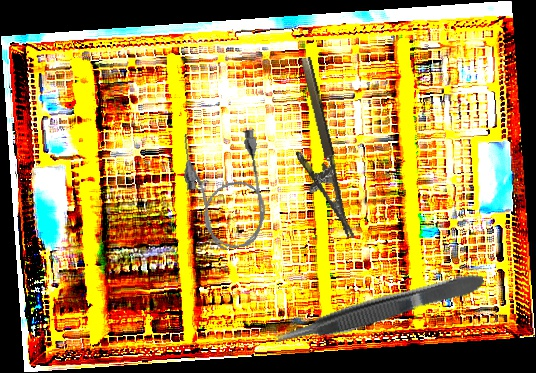Cannula: (177, 122, 274, 255)
Needle Holder: (275, 56, 355, 246)
Tissue Forceps: (268, 269, 488, 353)
